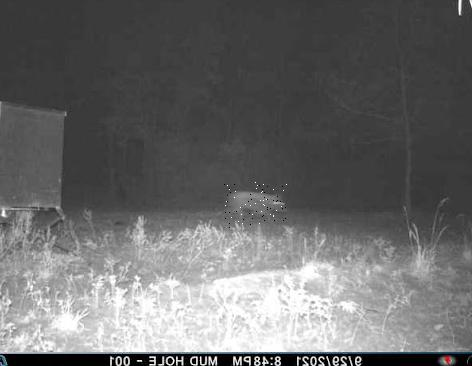Hog: (224, 182, 287, 228)
